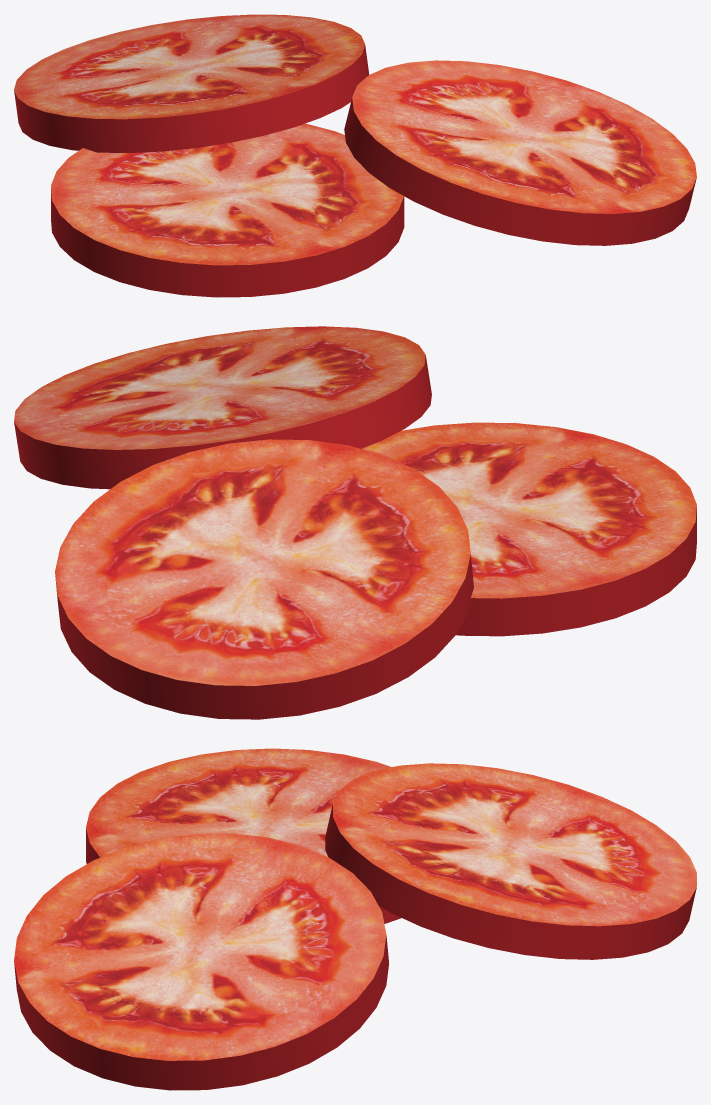
The model's file is tomaat We are cooked.fbx.
3 renders of one model, top to bottom at view 1: azimuth 30°, elevation 25°; view 2: azimuth 150°, elevation 25°; view 3: azimuth 270°, elevation 25°, orthographic. The views are drawn at different scales.
Parts seen in each view (by area): view 1: tomaat.007, tomaat.008, tomaat.006; view 2: tomaat.006, tomaat.008, tomaat.007; view 3: tomaat.007, tomaat.006, tomaat.008.
Boxes of the visible parts, x1,y1,x2,y2 form: tomaat.007: (344,60,696,245); tomaat.008: (51,123,404,297); tomaat.006: (14,14,369,152); tomaat.006: (55,439,473,719); tomaat.008: (361,422,696,636); tomaat.007: (14,326,431,489); tomaat.007: (14,833,388,1090); tomaat.006: (325,763,696,959); tomaat.008: (86,748,401,923).
Size of the model in its own units: 9.22 by 1.67 by 9.14.
